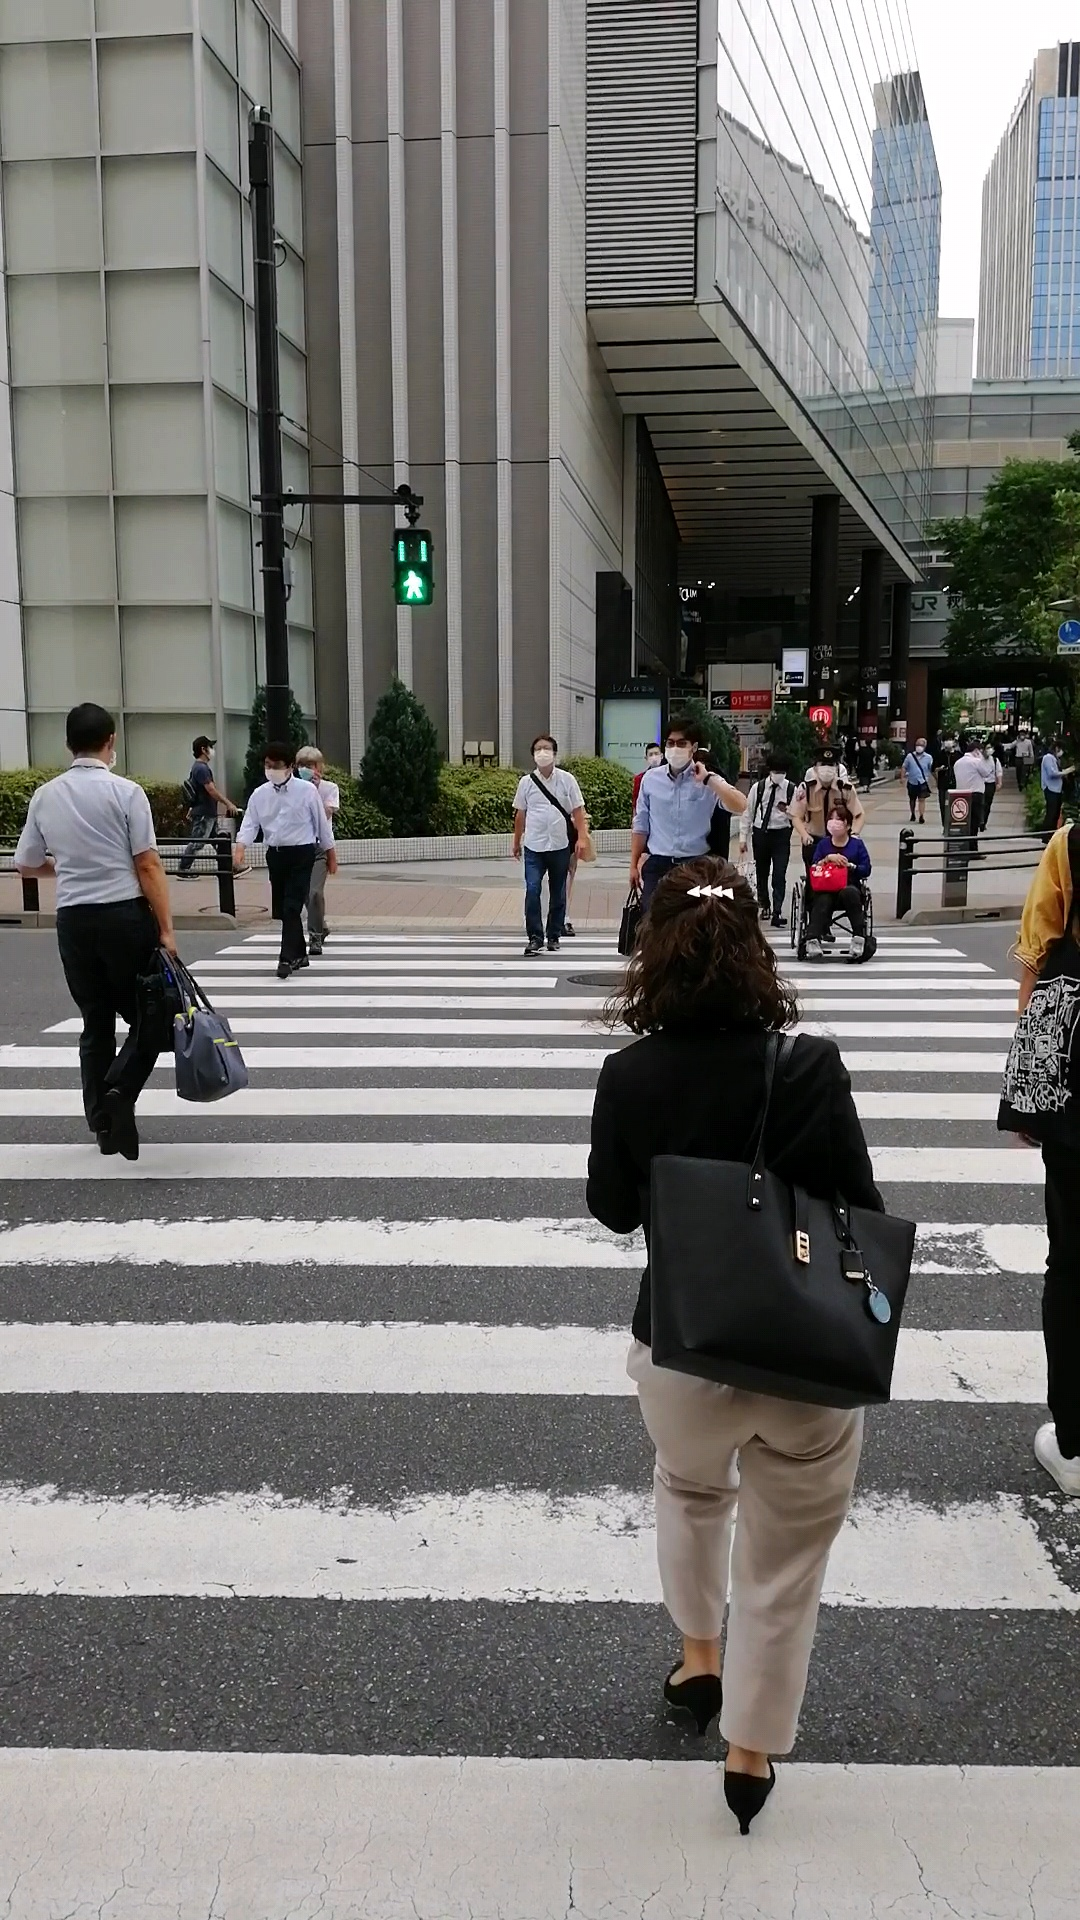green: (392, 527, 434, 604)
